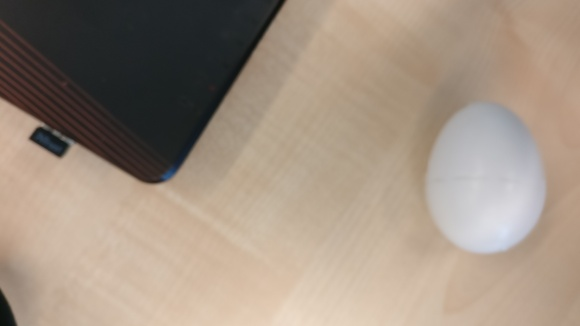egg: (426, 100, 549, 254)
